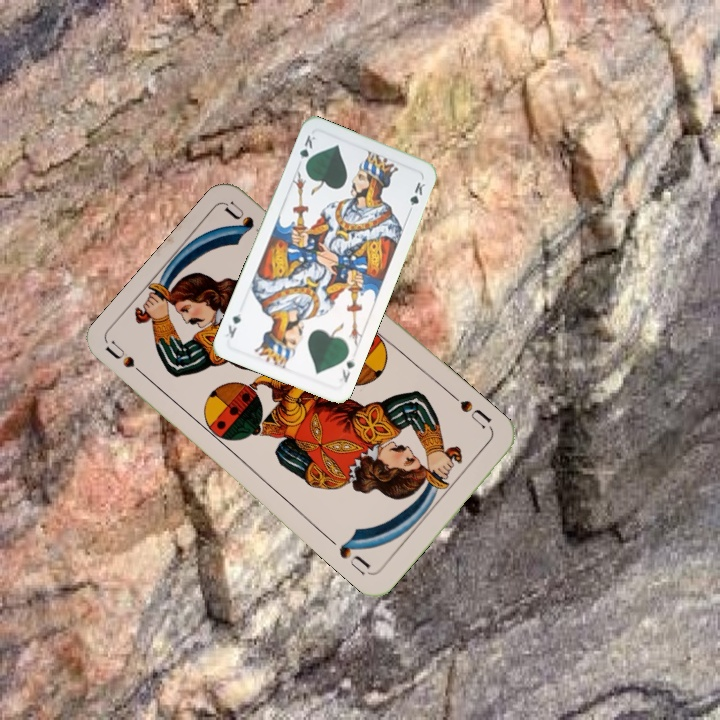GK: (295, 131, 318, 171), (338, 353, 357, 386)
SU: (103, 338, 154, 385), (447, 390, 494, 431)
